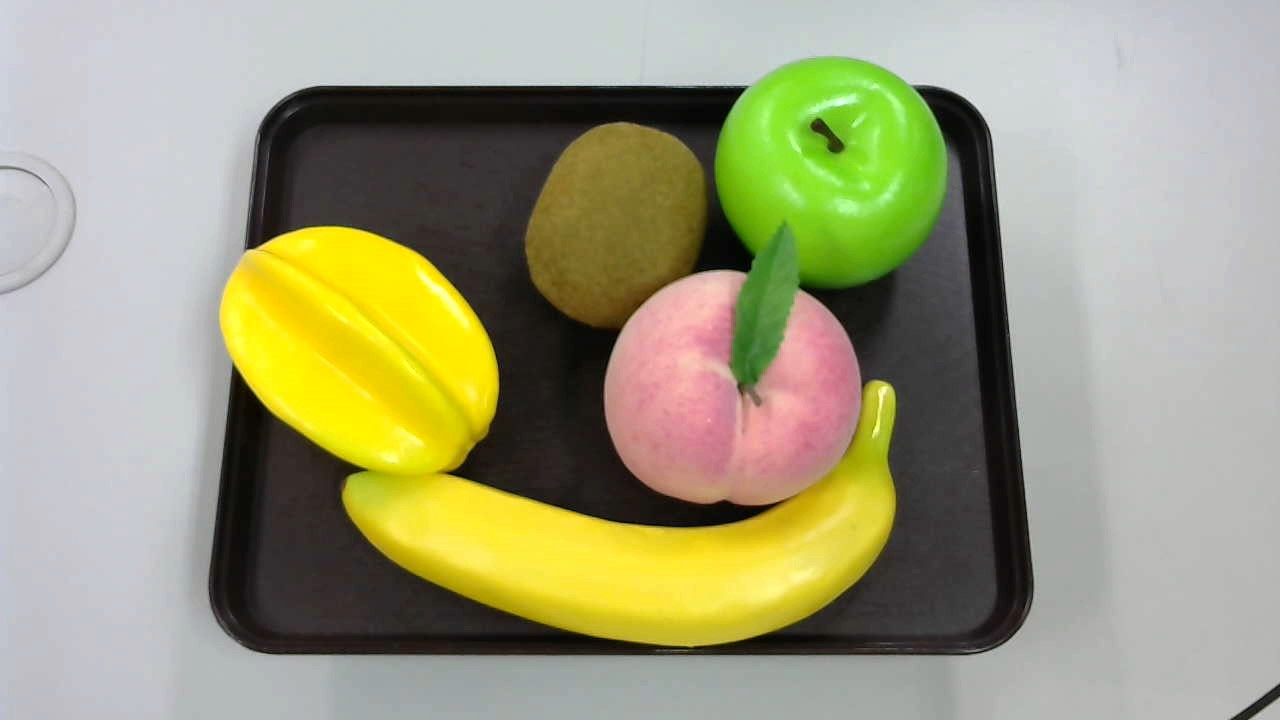banana: (331, 376, 909, 656)
green apple: (712, 49, 951, 288)
kiwi fruit: (523, 123, 717, 320)
peach: (607, 228, 866, 498)
star fruit: (219, 221, 496, 479)
